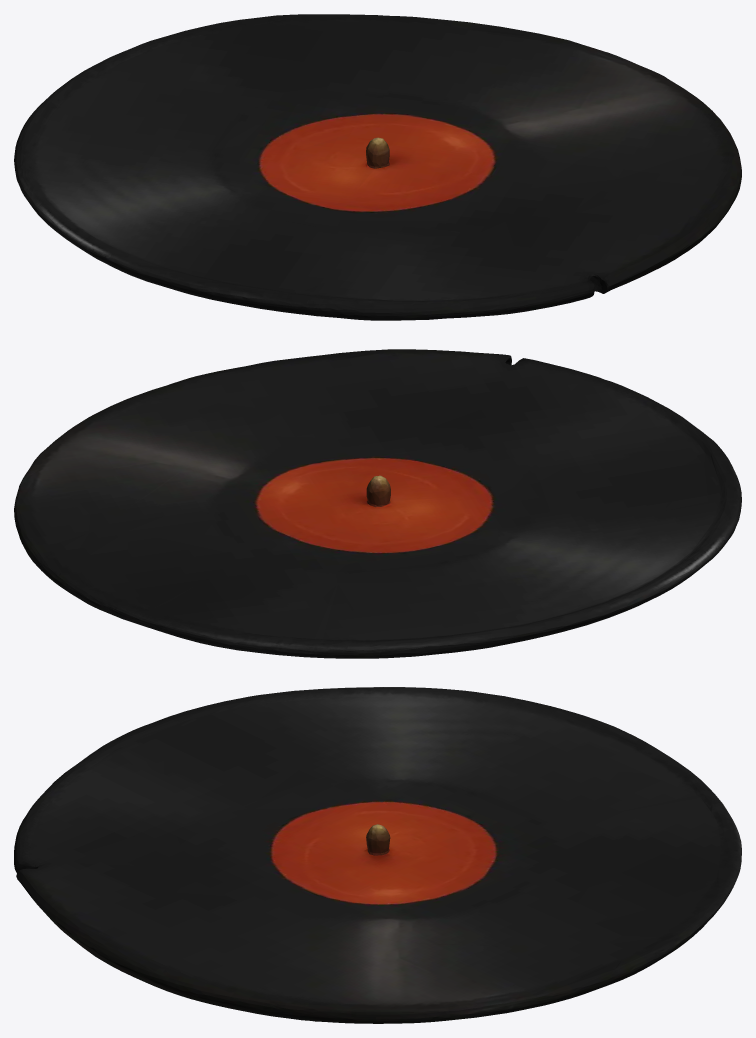
3 views of the same model, one above another, from view 1: azimuth 30°, elevation 25°; view 2: azimuth 150°, elevation 25°; view 3: azimuth 270°, elevation 25° (orthographic).
Parts seen in each view (by area): view 1: world; view 2: world; view 3: world.
Part boxes in pixels (box(x1,y1,x2,y2)): world: box(14, 14, 741, 320); world: box(14, 349, 741, 658); world: box(14, 687, 741, 1023).
Size of the model in its own units: 0.9995 by 0.1375 by 0.9996.
Materials: 1 (1 with a texture image).
